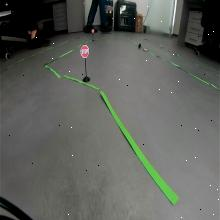stop: (80, 45, 90, 58)
